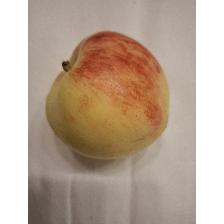Apfel: (43, 28, 172, 162)
